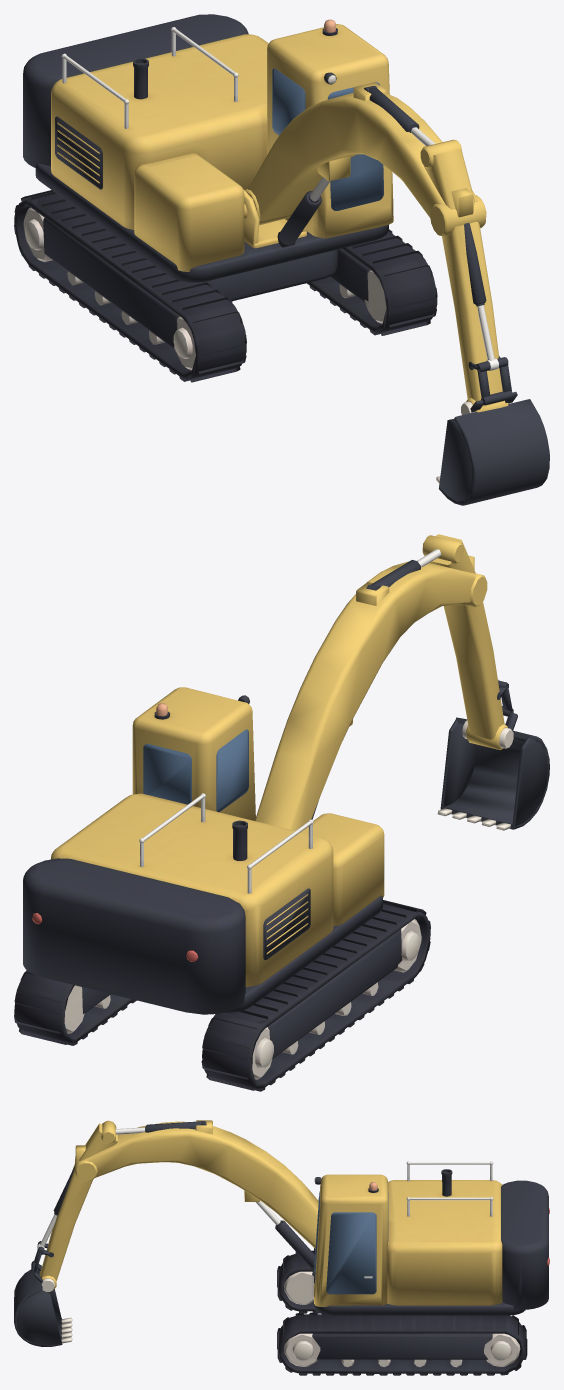
The model's file is n_excavator.glb.
The picture shows the model from 3 angles, top to bottom: view 1: azimuth 30°, elevation 25°; view 2: azimuth 150°, elevation 25°; view 3: azimuth 270°, elevation 25°; orthographic projection. The views are drawn at different scales.
Visible parts, largest first — view 1: excavator_upper, excavator_body, excavator_boom, excavator_arm, excavator_bucket, excavator_windows; view 2: excavator_upper, excavator_body, excavator_boom, excavator_bucket, excavator_arm, excavator_windows; view 3: excavator_upper, excavator_body, excavator_boom, excavator_windows, excavator_arm, excavator_bucket.
Part boxes in pixels (bbox=[...]): excavator_upper: bbox=[23, 14, 393, 282]; excavator_body: bbox=[14, 190, 437, 382]; excavator_boom: bbox=[245, 82, 486, 235]; excavator_arm: bbox=[410, 127, 513, 412]; excavator_bucket: bbox=[436, 392, 549, 505]; excavator_windows: bbox=[272, 68, 383, 210]; excavator_upper: bbox=[23, 687, 384, 1014]; excavator_body: bbox=[14, 900, 430, 1091]; excavator_boom: bbox=[255, 560, 487, 830]; excavator_bucket: bbox=[437, 712, 549, 830]; excavator_arm: bbox=[417, 534, 513, 749]; excavator_windows: bbox=[143, 729, 248, 812]; excavator_upper: bbox=[275, 1161, 549, 1315]; excavator_body: bbox=[277, 1250, 527, 1375]; excavator_boom: bbox=[75, 1120, 318, 1248]; excavator_windows: bbox=[314, 1192, 388, 1294]; excavator_arm: bbox=[31, 1120, 144, 1290]; excavator_bucket: bbox=[14, 1264, 72, 1346].
Size of the model in its own units: 2.92 by 3.7 by 8.4.
3 materials, 2 textured.
